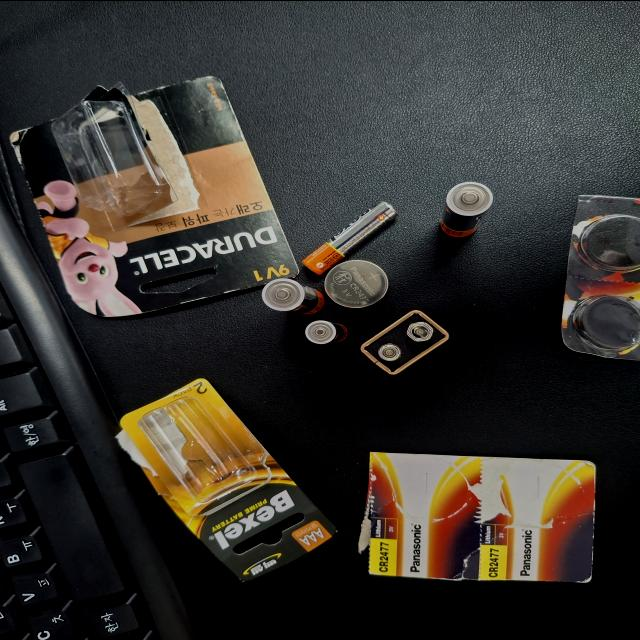9V: (356, 431, 442, 497)
AA: (538, 490, 612, 530), (436, 357, 484, 403)
AAA: (488, 387, 586, 458), (396, 390, 428, 420)
COIN: (444, 404, 508, 451)
